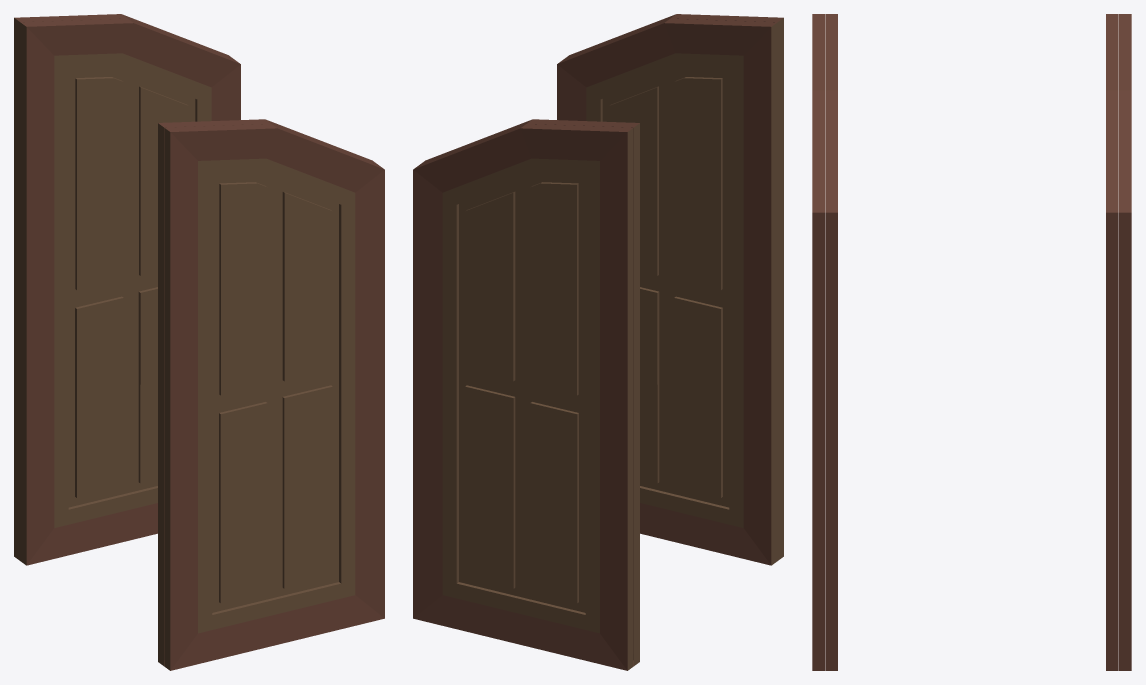
File: door.fbx
The picture shows the model from 3 angles, left to right: view 1: azimuth 30°, elevation 25°; view 2: azimuth 150°, elevation 25°; view 3: azimuth 270°, elevation 25°; orthographic projection. The views are drawn at different scales.
Visible parts, largest first — view 1: Door Right, Door Left; view 2: Door Left, Door Right; view 3: Door Left, Door Right.
Part boxes in pixels (x1,y1,x2,y2): Door Right: (158,119,384,670); Door Left: (14,14,240,565); Door Left: (413,119,639,670); Door Right: (557,14,783,565); Door Left: (1106,14,1131,670); Door Right: (812,14,837,670).
Size of the model in its own units: 100 by 240 by 126.
